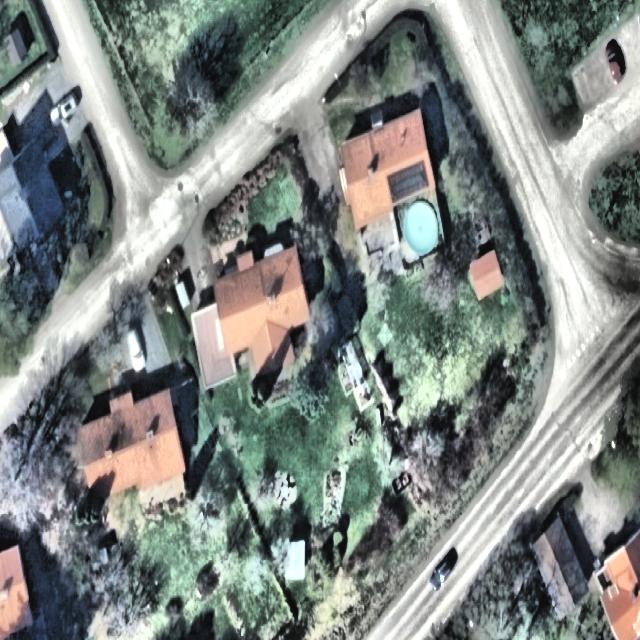roof_pv: (385, 158, 435, 204)
